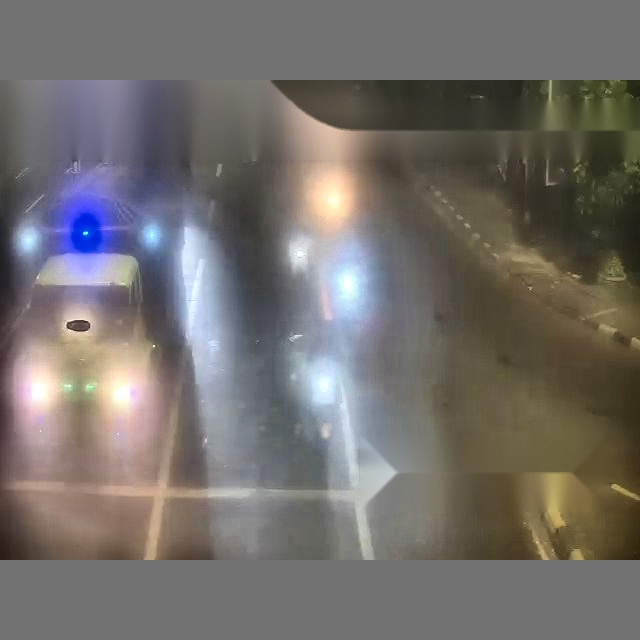Motor: (312, 168, 351, 233)
Truk: (1, 250, 177, 557)
